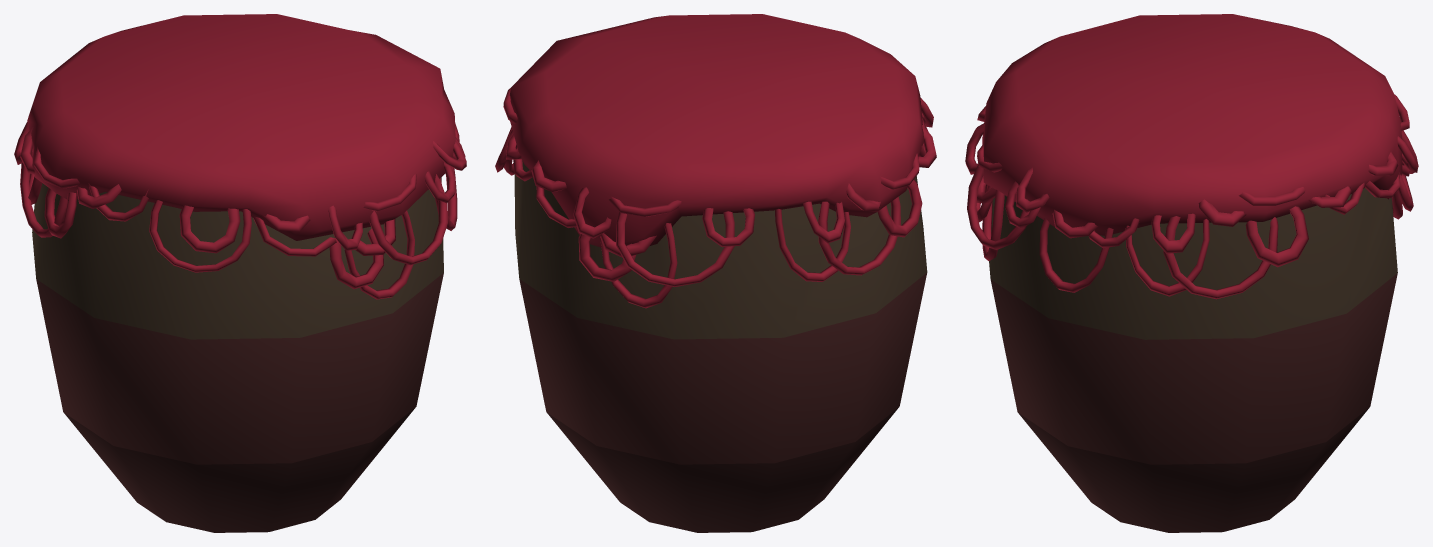
Rendered from Alien_Island02.fbx.
3 views of the same model, side by side, from view 1: azimuth 30°, elevation 25°; view 2: azimuth 150°, elevation 25°; view 3: azimuth 270°, elevation 25° (orthographic).
Parts seen in each view (by area): view 1: Alien_Island02; view 2: Alien_Island02; view 3: Alien_Island02.
Boxes of the visible parts, x1,y1,x2,y2 form: Alien_Island02: (14,14,466,532); Alien_Island02: (495,14,936,532); Alien_Island02: (965,14,1418,532).
Bounding box in the file's own units: 8403 × 8748 × 8414.
